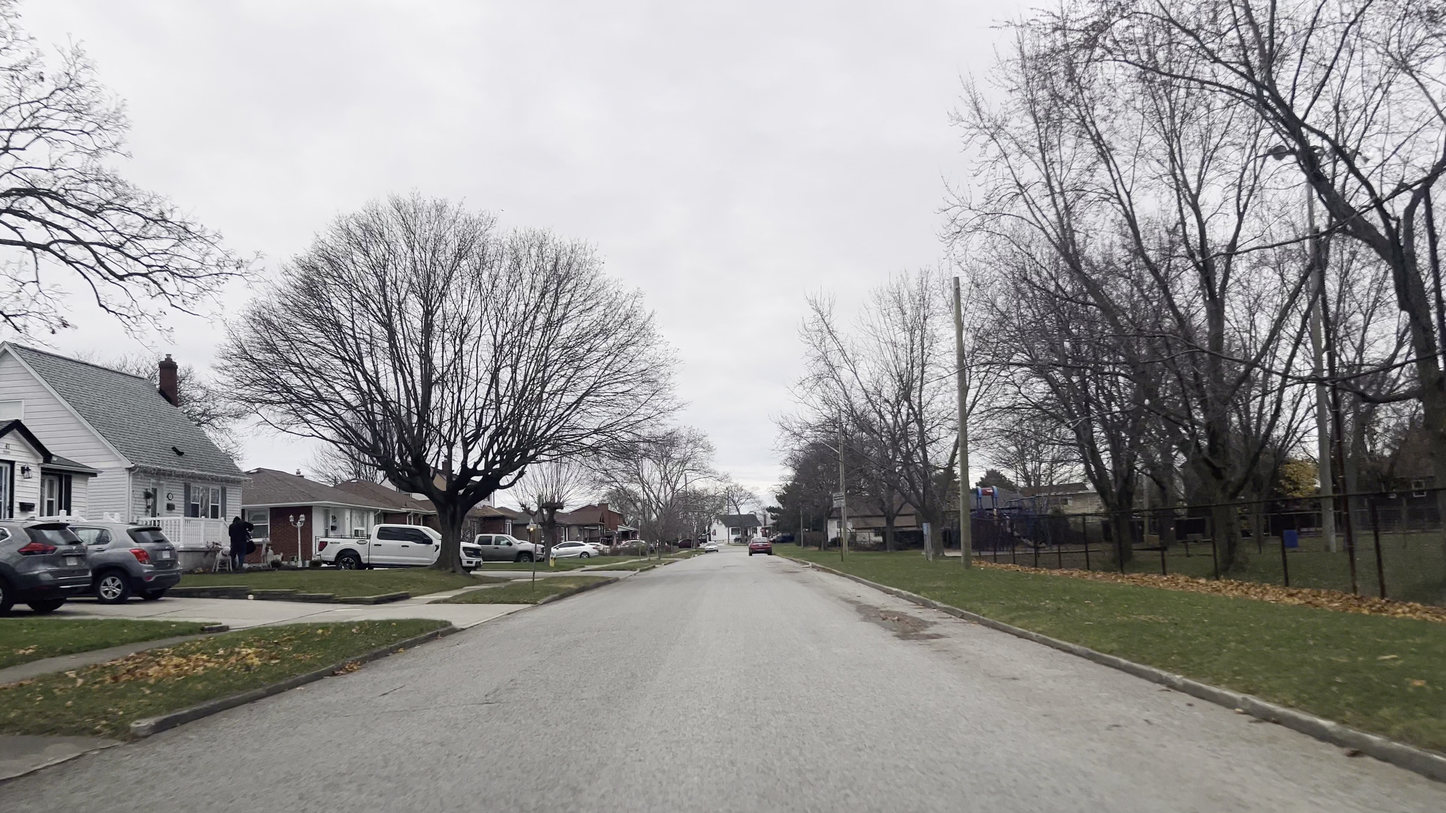cracks: (836, 595, 949, 645)
